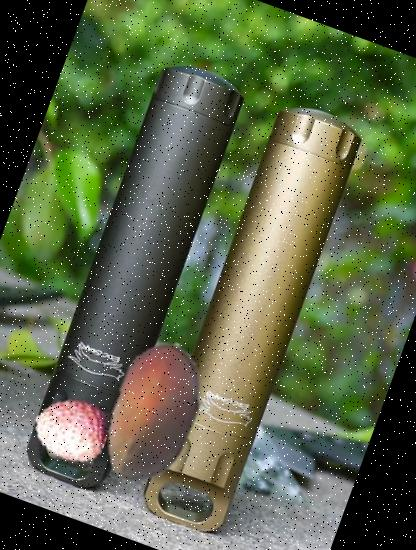Hazelnut: (58, 319, 249, 510)
Lychee: (24, 381, 118, 475)
